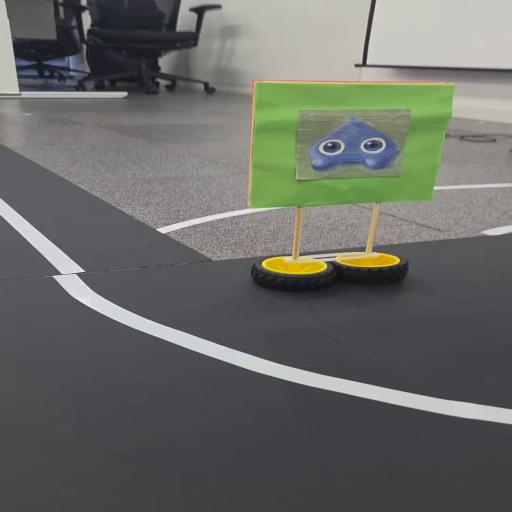Sign_B: (234, 72, 466, 297)
